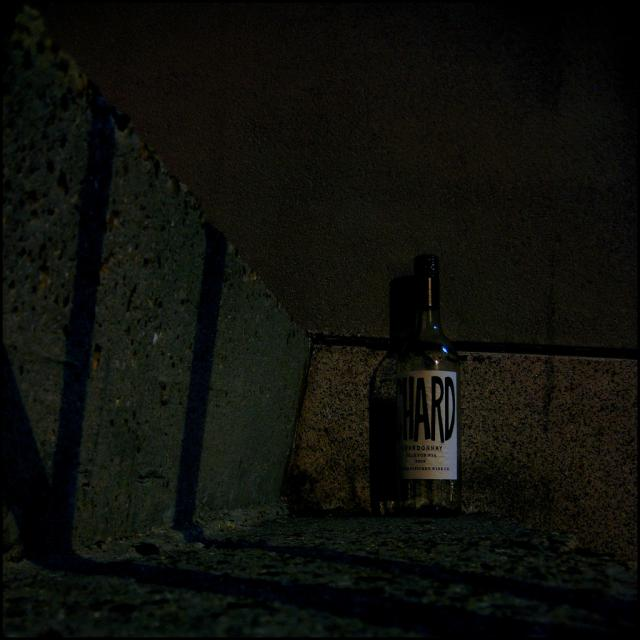Bottle: (389, 228, 472, 515)
